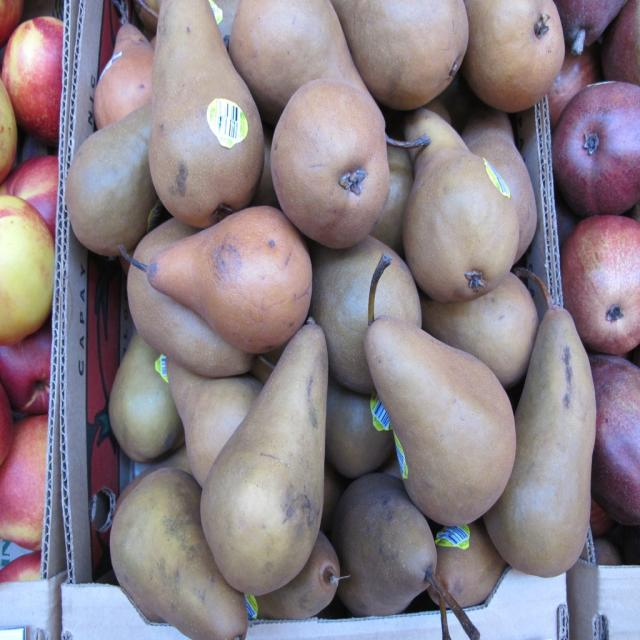pear: (72, 0, 596, 640)
